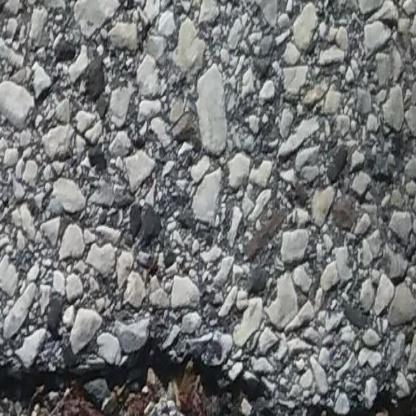Cracks: (0, 350, 268, 416), (302, 396, 416, 416)
